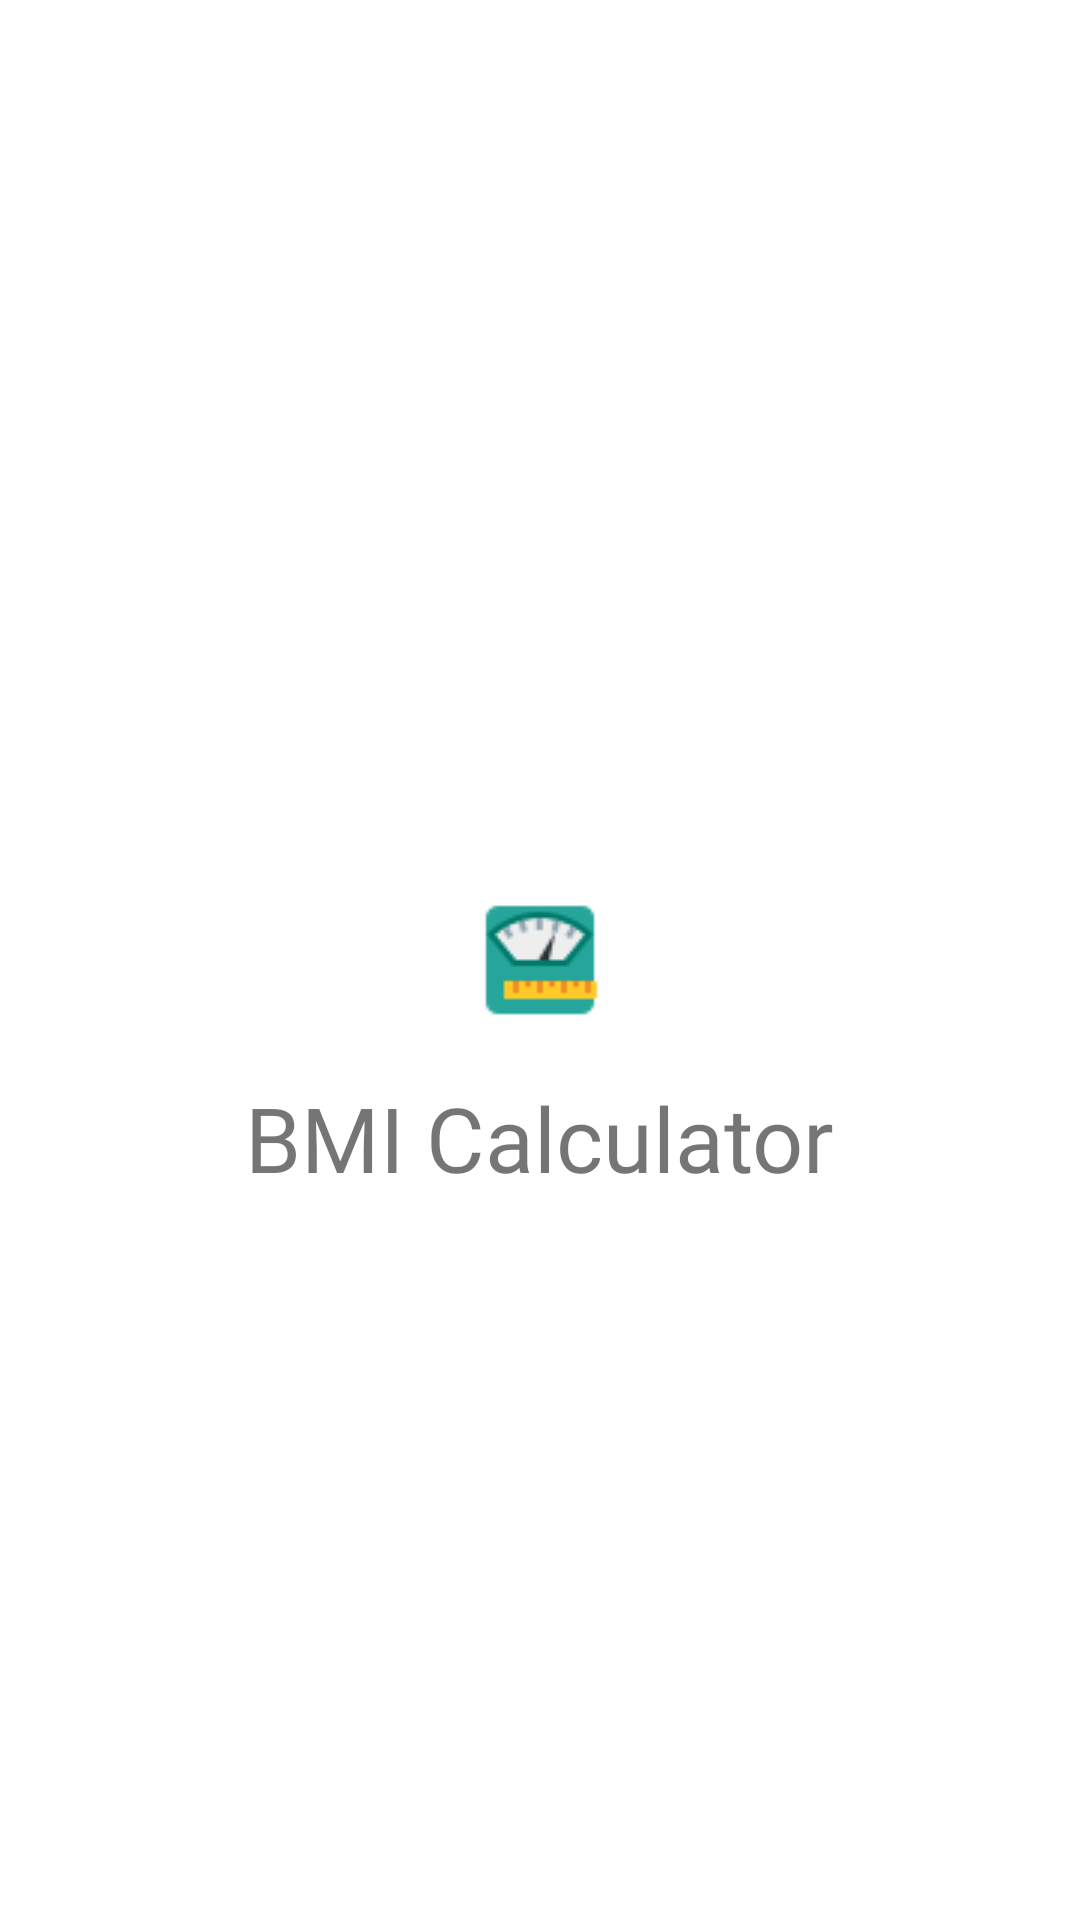

Where icons sit on this 1080px x 1920px app screen, as (x1, y1, x2, y2):
bmiicon: (485, 905, 598, 1015)
